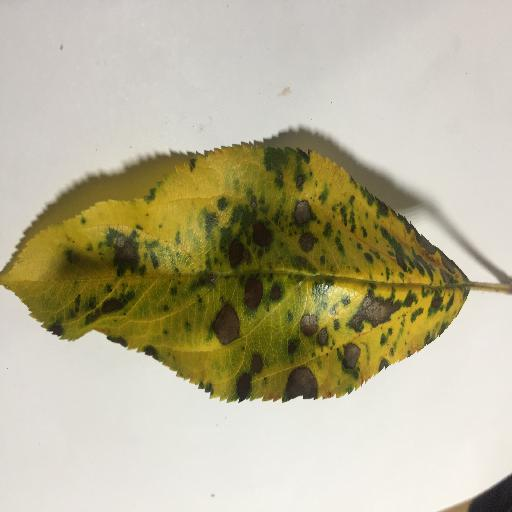Brown_Spot: (104, 245, 150, 283), (304, 314, 333, 348), (287, 372, 320, 401), (206, 309, 234, 343), (355, 303, 408, 318), (285, 200, 313, 228), (230, 234, 251, 265), (337, 345, 358, 372), (243, 283, 266, 306), (233, 378, 251, 399), (254, 228, 268, 248), (306, 234, 314, 249)
